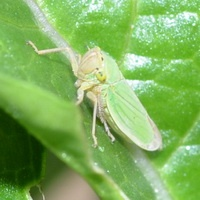insect: (27, 41, 161, 150)
